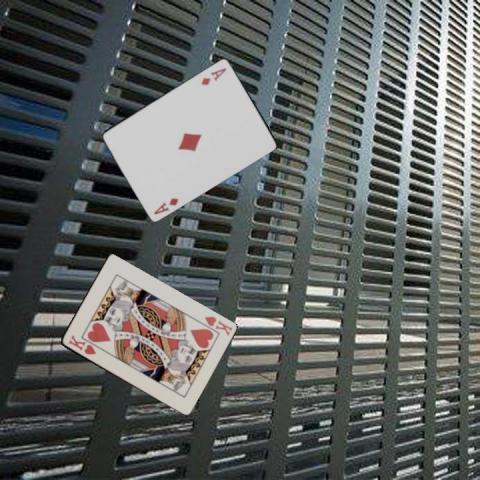Ad: (198, 64, 228, 86), (151, 195, 180, 216)
Kh: (66, 332, 98, 356), (202, 314, 234, 338)
